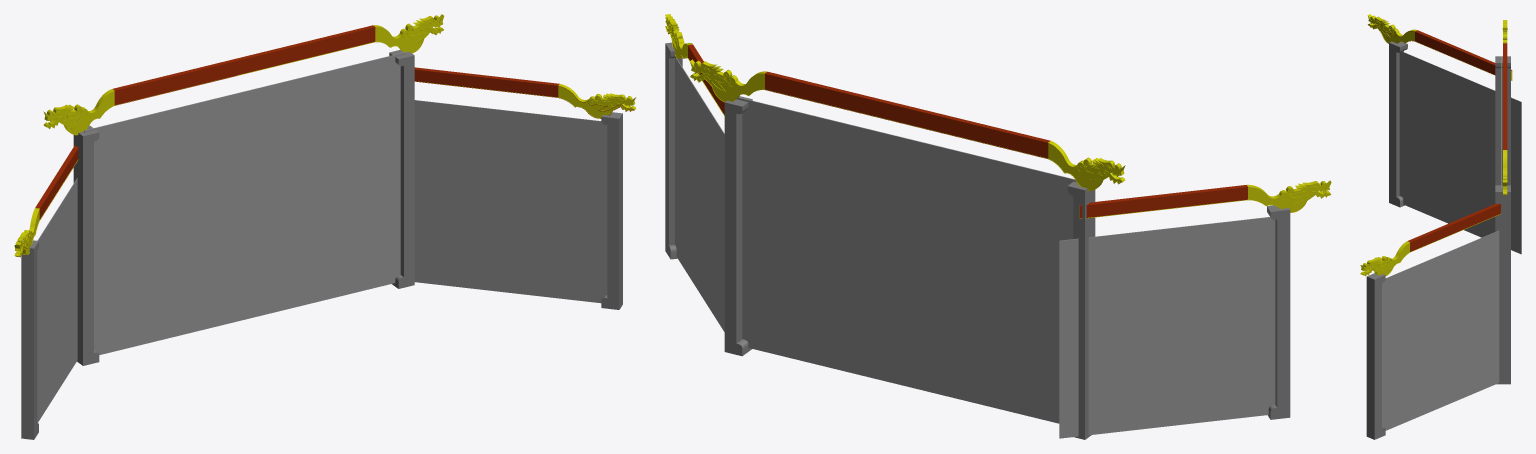
The model's file is Throne_FS_Small.fbx.
3 views of the same model, side by side, from view 1: azimuth 30°, elevation 25°; view 2: azimuth 150°, elevation 25°; view 3: azimuth 270°, elevation 25° (orthographic). The views are drawn at different scales.
Visible parts, largest first — view 1: Box039, Box041, Group_715, Box040, Group_7393, Group_7394, Group_805, Group_7396, Group_7395, Group_1184; view 2: Box039, Box040, Box041, Group_715, Group_7394, Group_1184, Group_7395, Group_7393, Group_7396, Group_805; view 3: Box041, Box040, Group_7396, Group_7394, Group_805, Group_7395, Group_1184, Group_7393, Group_715.
Part boxes in pixels (box(x1,y1,x2,y2)): Box039: box(84, 52, 406, 354); Box041: box(414, 100, 607, 303); Group_715: box(43, 14, 444, 135); Box040: box(37, 178, 77, 422); Group_7393: box(73, 125, 99, 365); Group_7394: box(389, 49, 414, 288); Group_805: box(414, 67, 636, 118); Group_7396: box(601, 112, 622, 309); Group_7395: box(21, 240, 38, 439); Group_1184: box(14, 145, 78, 257); Box039: box(736, 97, 1076, 423); Box040: box(1059, 217, 1275, 438); Box041: box(675, 58, 724, 331); Group_715: box(690, 59, 1125, 190); Group_7394: box(724, 96, 752, 356); Group_1184: box(1079, 180, 1331, 218); Group_7395: box(1267, 205, 1290, 419); Group_7393: box(1067, 181, 1095, 439); Group_7396: box(665, 42, 682, 259); Group_805: box(665, 14, 724, 115); Box041: box(1382, 230, 1499, 430); Box040: box(1399, 51, 1521, 254); Group_7396: box(1366, 273, 1385, 439); Group_7394: box(1495, 185, 1510, 384); Group_805: box(1360, 204, 1500, 275); Group_7395: box(1389, 41, 1407, 207); Group_1184: box(1367, 14, 1512, 80); Group_7393: box(1495, 56, 1510, 185); Group_715: box(1502, 20, 1507, 195).
Bounding box in the file's own units: 443 × 180 × 120.
